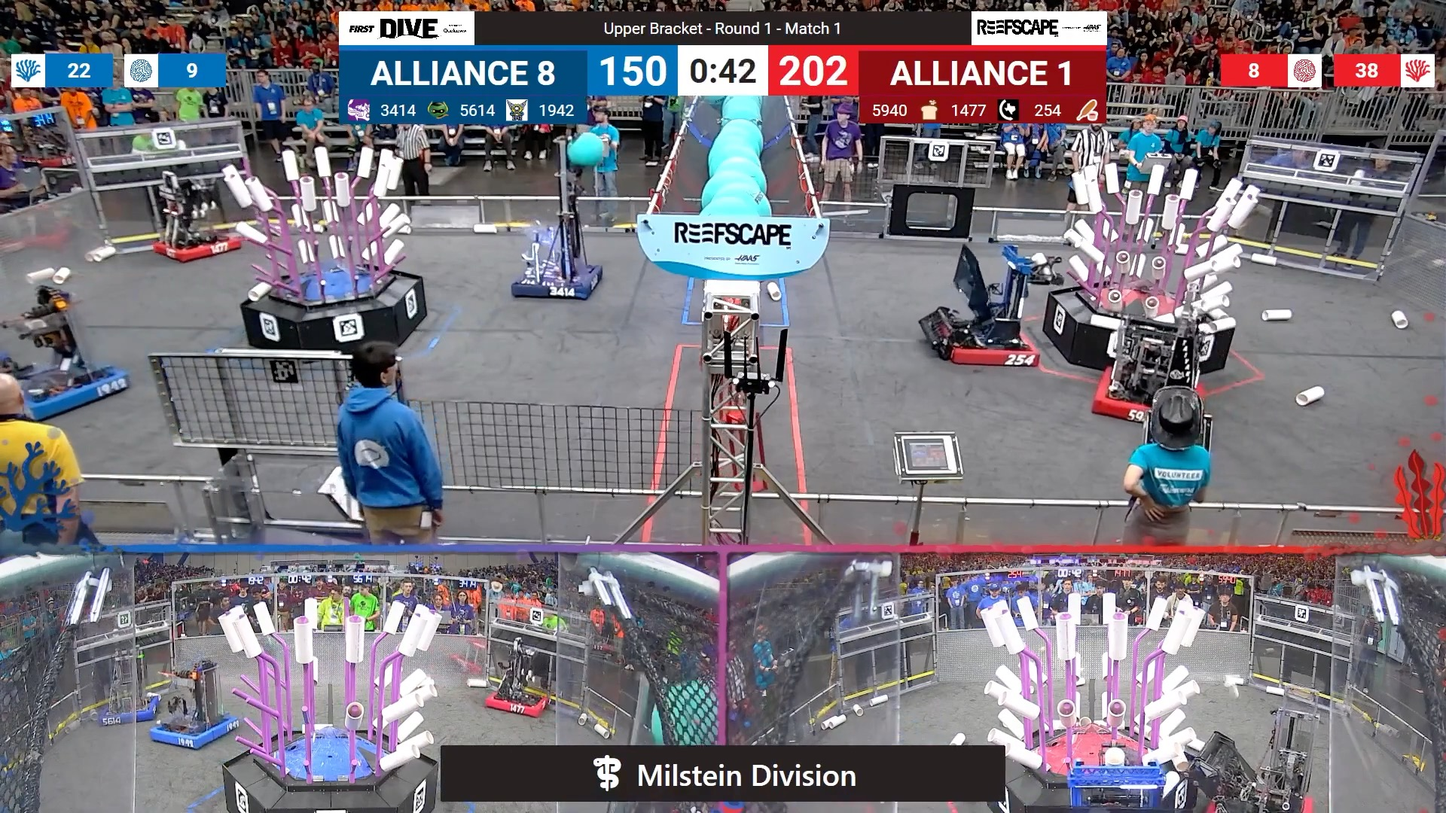bumpers: (7, 357, 139, 424), (1083, 363, 1199, 429), (922, 316, 1047, 375), (144, 709, 252, 754), (509, 259, 608, 304), (145, 233, 250, 269), (1201, 785, 1315, 813), (478, 687, 552, 721), (87, 698, 161, 731)
